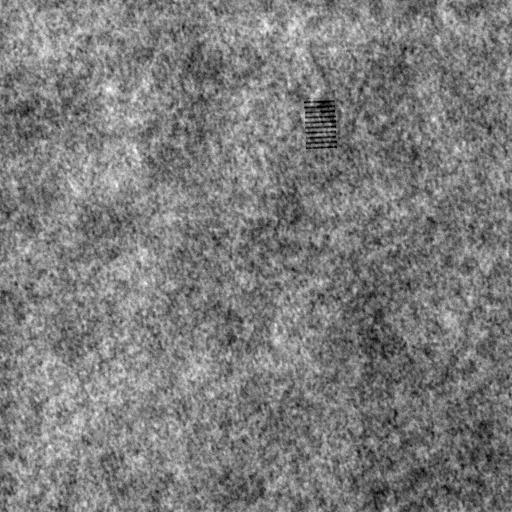impact: (301, 97, 340, 153)
